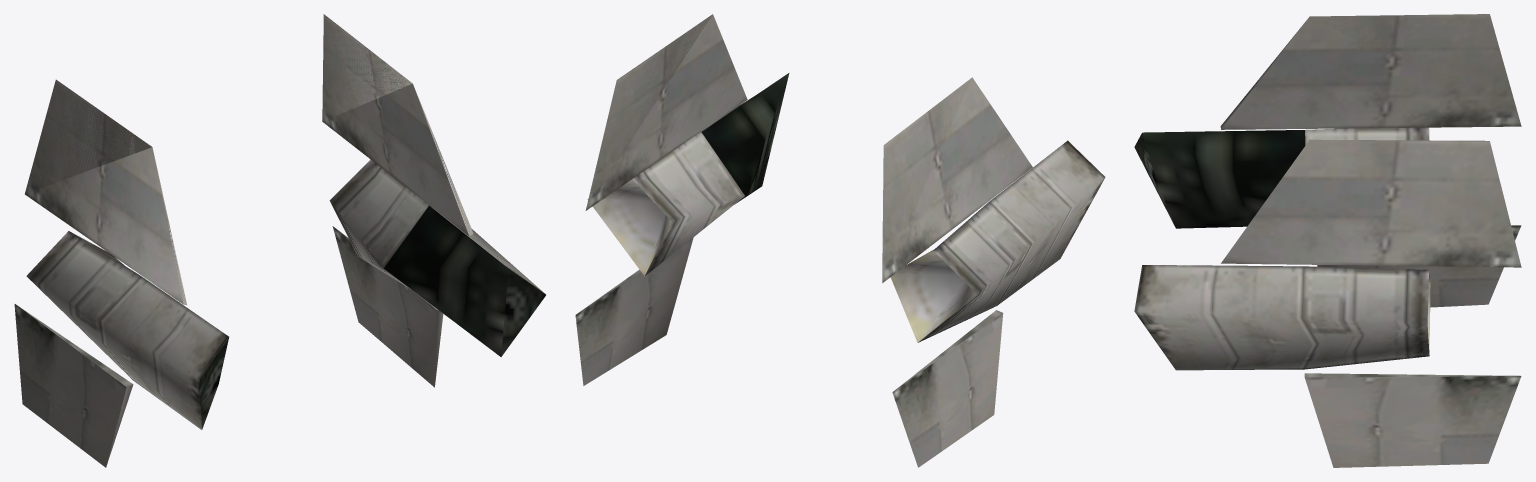
The model's file is awing_engine_s01_l4.fbx.
The picture shows the model from 3 angles, left to right: view 1: azimuth 30°, elevation 25°; view 2: azimuth 150°, elevation 25°; view 3: azimuth 270°, elevation 25°; orthographic projection. The views are drawn at different scales.
Visible parts, largest first — view 1: mesh_node; view 2: mesh_node; view 3: mesh_node.
Part boxes in pixels (x1,y1,x2,y2): mesh_node: (14, 14, 545, 467); mesh_node: (575, 14, 1105, 467); mesh_node: (1134, 14, 1521, 467).
Bounding box in the file's own units: 6.29 × 4.95 × 5.56.
Materials: 1 (1 with a texture image).
